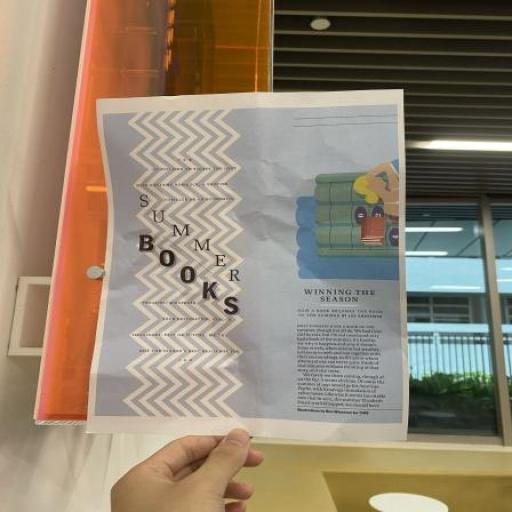paper: (34, 31, 487, 483)
